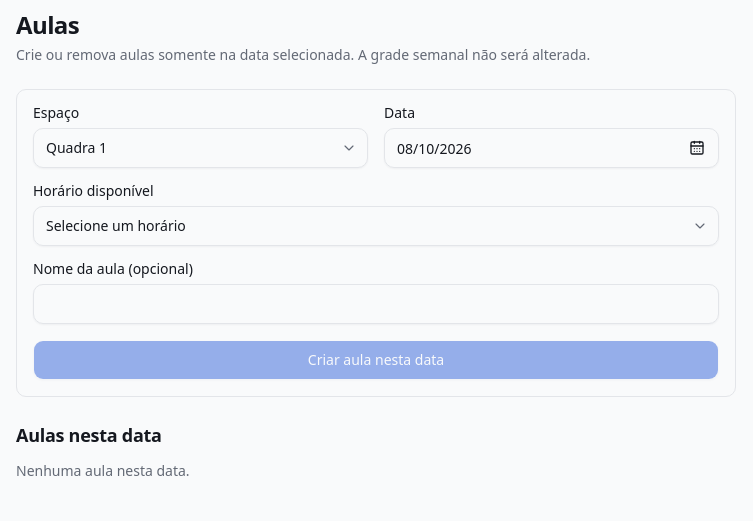
Test: TeacherLessonsPage › explains when a selected time disappears after the day refreshes
Step 1. Click the dropdown named "Horário disponível" → (116, 226), box [33,206,719,246]
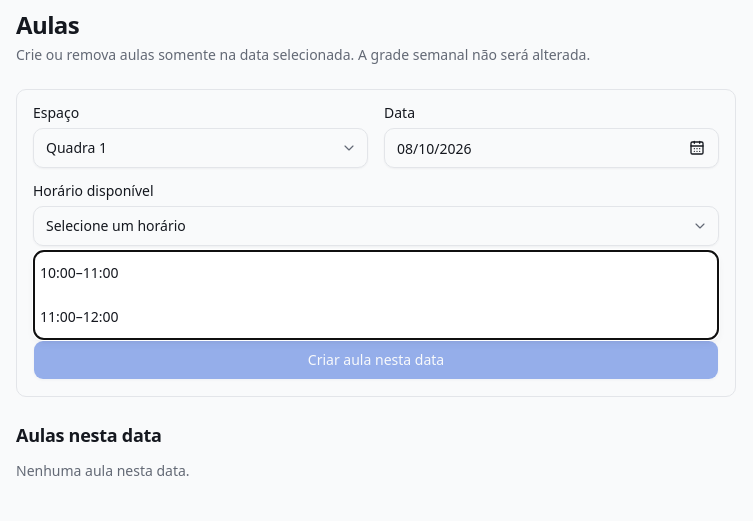
Step 2. Click the option "11:00–12:00" → (79, 316), box [40,307,119,326]
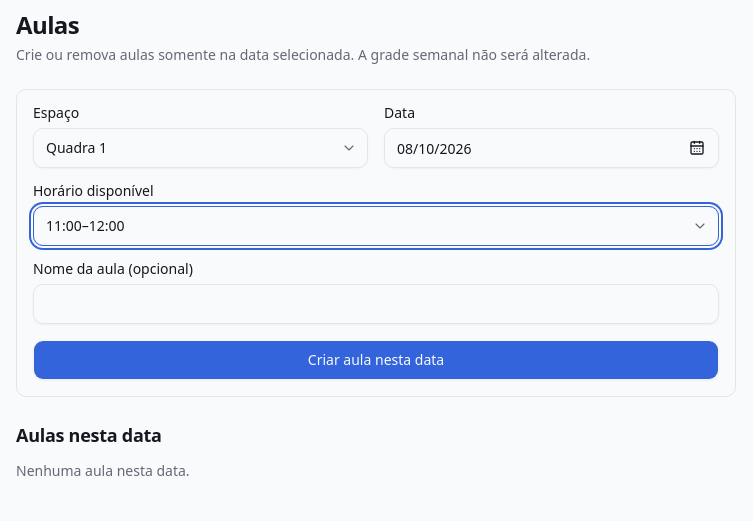
Expected: the dropdown named "Horário disponível" shows "11:00–12:00", [33,206,719,246]
Step 3. Replace the text in the field labelled "Data" with "09/10/2026" → (552, 148), box [384,128,719,168]
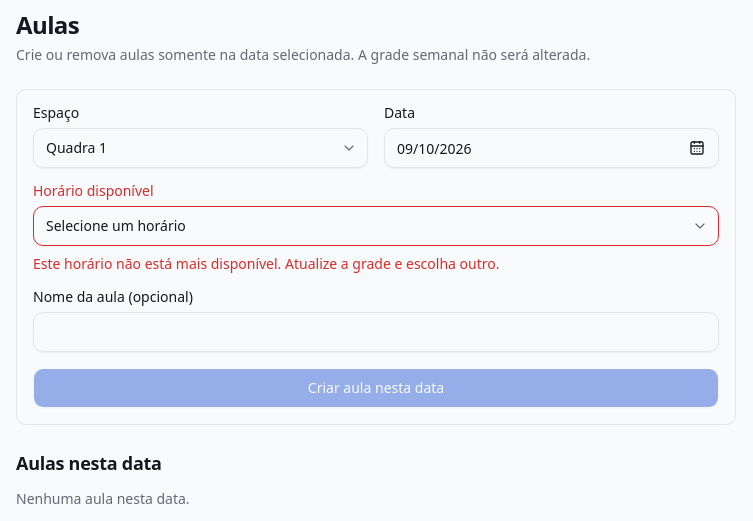
Expected: the button "Criar aula nesta data" is disabled, [33,368,719,408]
